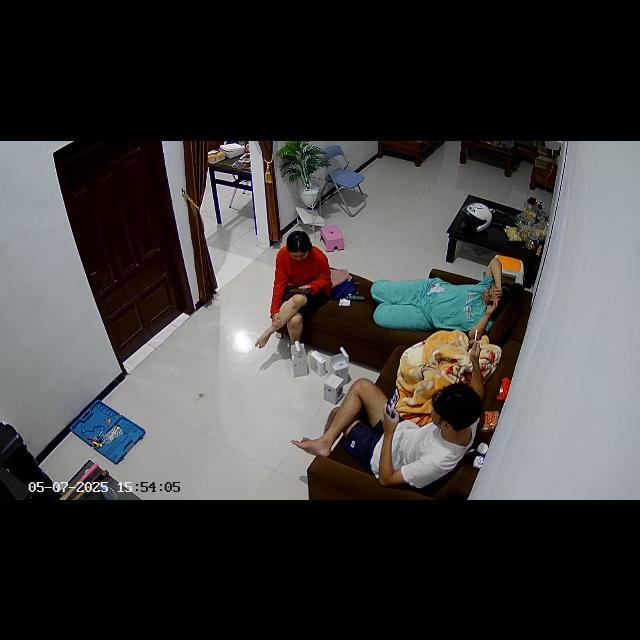rokok: (474, 328, 478, 340)
